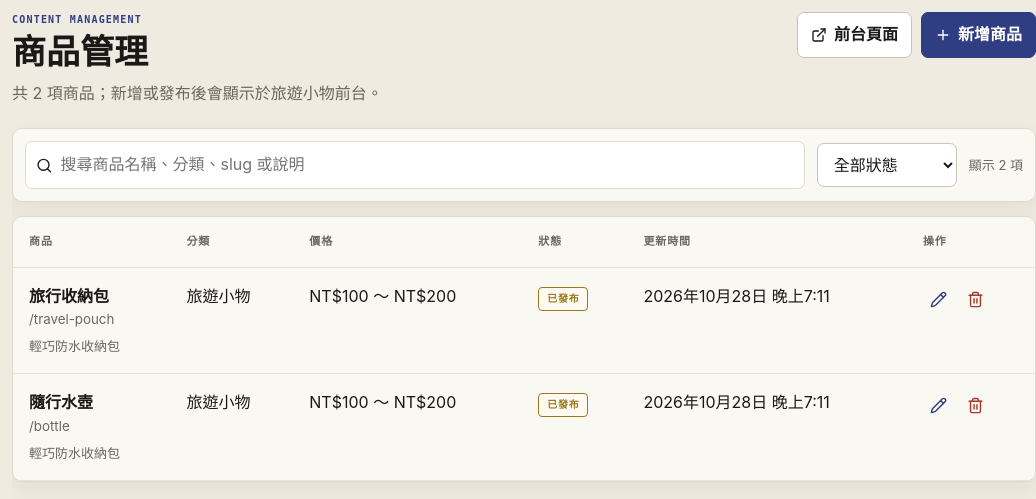
Test case: ProductListPage — listing and filtering › filters by the search box (matches product name)
The width and height of the screenshot is (1036, 499).
Check: the text "旅行收納包" is shown, box top-left (29, 286), bottom-right (109, 306)
Type "水壺" into the field with placeholder "搜尋商品名稱、分類、slug 或說明" at (427, 165), box top-left (60, 142), bottom-right (794, 188)
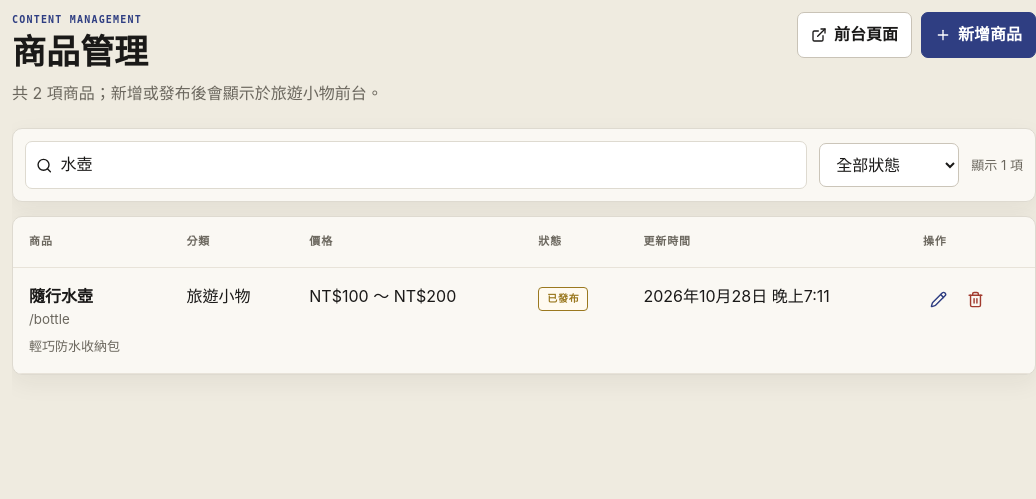
Check: the text "隨行水壺" is shown, box top-left (29, 286), bottom-right (93, 306)
Check: the text "旅行收納包" is gone
